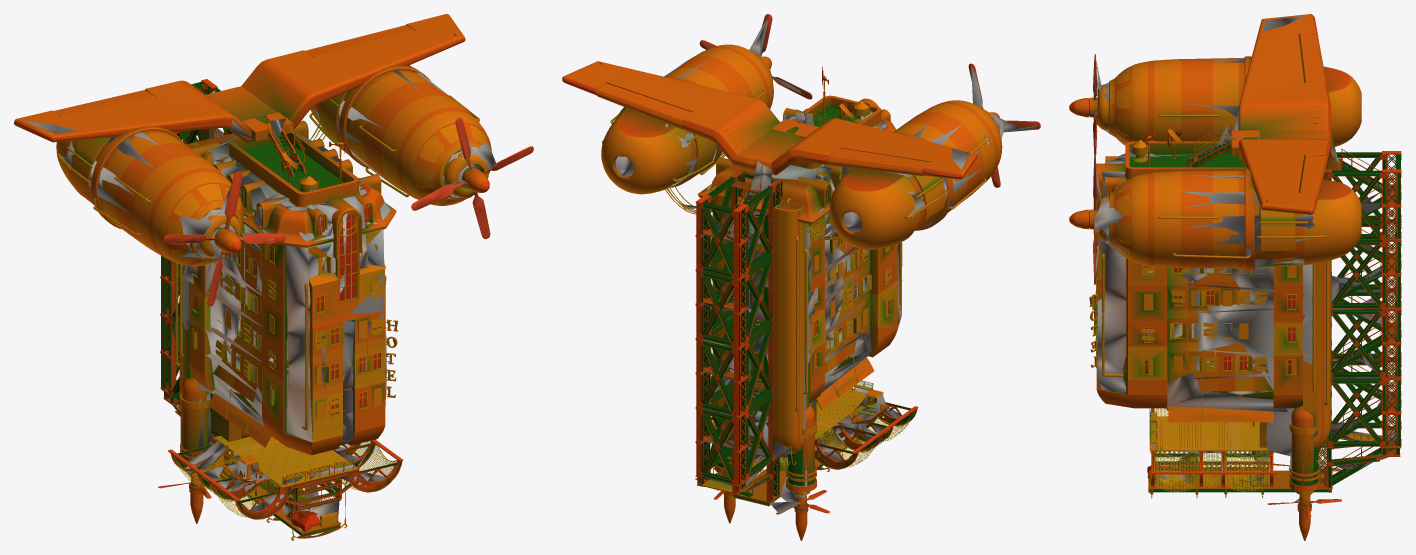
Rendered from KB3D_CSK_BldgMdHotel_A.glb.
3 renders of one model, left to right at view 1: azimuth 30°, elevation 25°; view 2: azimuth 150°, elevation 25°; view 3: azimuth 270°, elevation 25°, orthographic. The views are drawn at different scales.
Parts seen in each view (by area): view 1: L0, L1, L2; view 2: L0, L1, L2; view 3: L0, L2, L1.
Boxes of the visible parts, <box> form: L0: <box>14,14,533,540</box>; L1: <box>15,14,530,539</box>; L2: <box>24,69,495,530</box>; L0: <box>562,14,1040,540</box>; L1: <box>565,15,1035,513</box>; L2: <box>614,20,1036,513</box>; L0: <box>1069,14,1401,540</box>; L2: <box>1085,15,1395,502</box>; L1: <box>1073,14,1401,516</box>.
Bounding box in the file's own units: 35.83 × 35.6 × 25.62.
